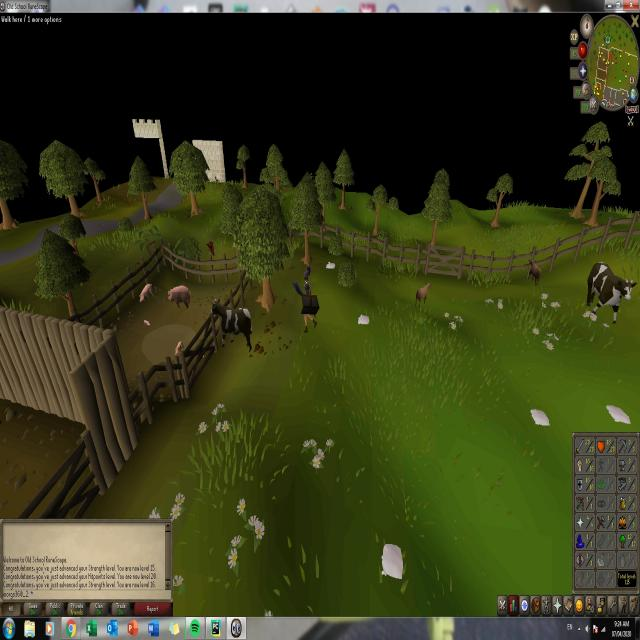cow: (584, 258, 638, 329), (212, 296, 253, 355)
